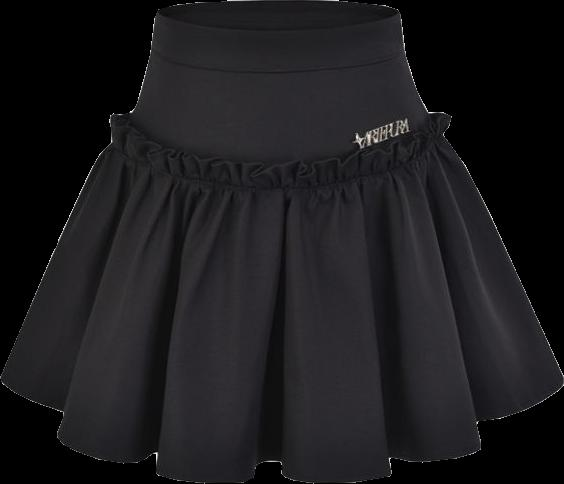Hemline: (0, 376, 563, 483)
Waistline: (110, 128, 444, 186), (147, 47, 403, 75), (155, 10, 402, 35)
